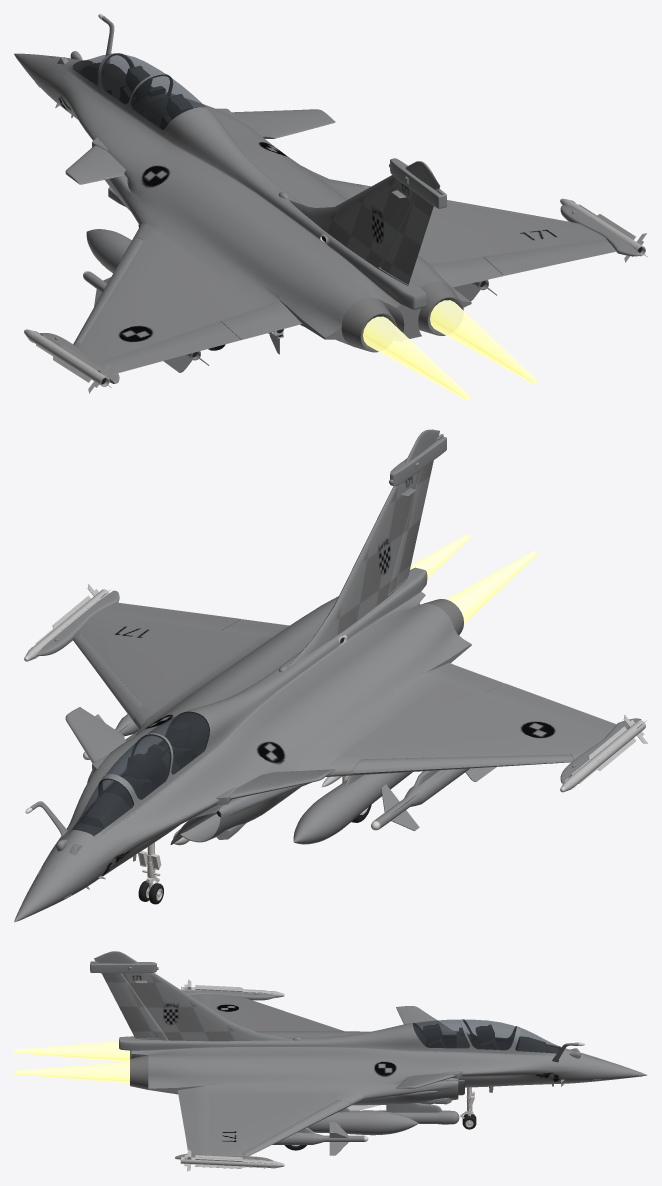
File: rafale.glb
3 renders of one model, top to bottom at view 1: azimuth 30°, elevation 25°; view 2: azimuth 150°, elevation 25°; view 3: azimuth 270°, elevation 25°, orthographic. The views are drawn at different scales.
Parts seen in each view (by area): view 1: airframe, flame, x_canopy, aileronL, aileronR, rudder, canardR, elevatorL, canardL, elevatorR, slatL; view 2: airframe, x_canopy, slatL, flame, aileronL, aileronR, canardR, rudder, canardL, slatR, elevatorL, elevatorR; view 3: airframe, x_canopy, flame, rudder, aileronR, slatR, elevatorR, canardL, canardR.
Boxes of the visible parts, x1=… form: airframe: x1=14, y1=14, x2=647, y2=393; flame: x1=363, y1=300, x2=537, y2=400; x_canopy: x1=99, y1=53, x2=209, y2=137; aileronL: x1=98, y1=321, x2=240, y2=373; aileronR: x1=483, y1=238, x2=616, y2=275; rudder: x1=380, y1=194, x2=433, y2=284; canardR: x1=232, y1=109, x2=335, y2=138; elevatorL: x1=221, y1=299, x2=301, y2=339; canardL: x1=65, y1=145, x2=126, y2=184; elevatorR: x1=428, y1=257, x2=503, y2=287; slatL: x1=73, y1=237, x2=143, y2=344; airframe: x1=14, y1=429, x2=647, y2=922; x_canopy: x1=101, y1=710, x2=211, y2=808; slatL: x1=352, y1=754, x2=573, y2=775; flame: x1=410, y1=534, x2=537, y2=623; aileronL: x1=483, y1=683, x2=616, y2=736; aileronR: x1=98, y1=602, x2=240, y2=630; canardR: x1=65, y1=707, x2=126, y2=763; rudder: x1=388, y1=460, x2=433, y2=594; canardL: x1=230, y1=769, x2=335, y2=799; slatR: x1=72, y1=635, x2=143, y2=720; elevatorL: x1=425, y1=663, x2=503, y2=694; elevatorR: x1=221, y1=619, x2=289, y2=637; airframe: x1=90, y1=951, x2=647, y2=1171; x_canopy: x1=410, y1=1019, x2=518, y2=1054; flame: x1=14, y1=1041, x2=129, y2=1083; rudder: x1=101, y1=973, x2=167, y2=1038; aileronR: x1=181, y1=1109, x2=208, y2=1155; slatR: x1=242, y1=1100, x2=350, y2=1156; elevatorR: x1=177, y1=1085, x2=208, y2=1111; canardL: x1=396, y1=1006, x2=452, y2=1031; canardR: x1=396, y1=1073, x2=455, y2=1088.
Bounding box in the file's own units: 11.56 × 5.36 × 17.48.
3 materials, 1 textured.
